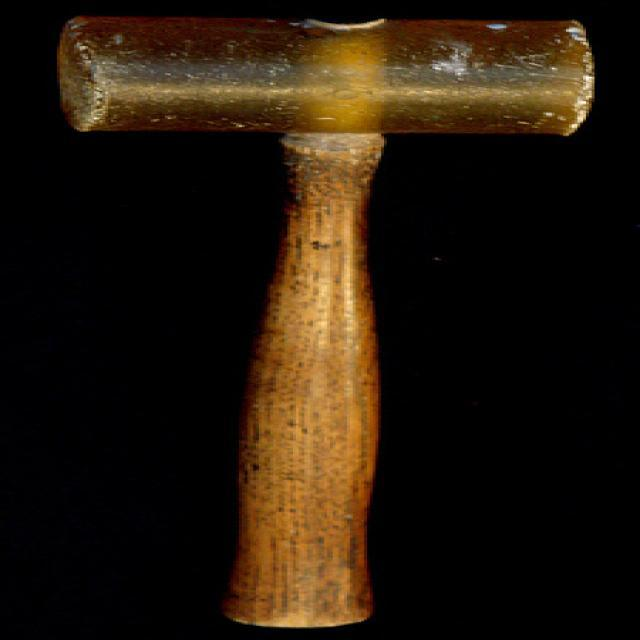hammer: (50, 9, 608, 629)
